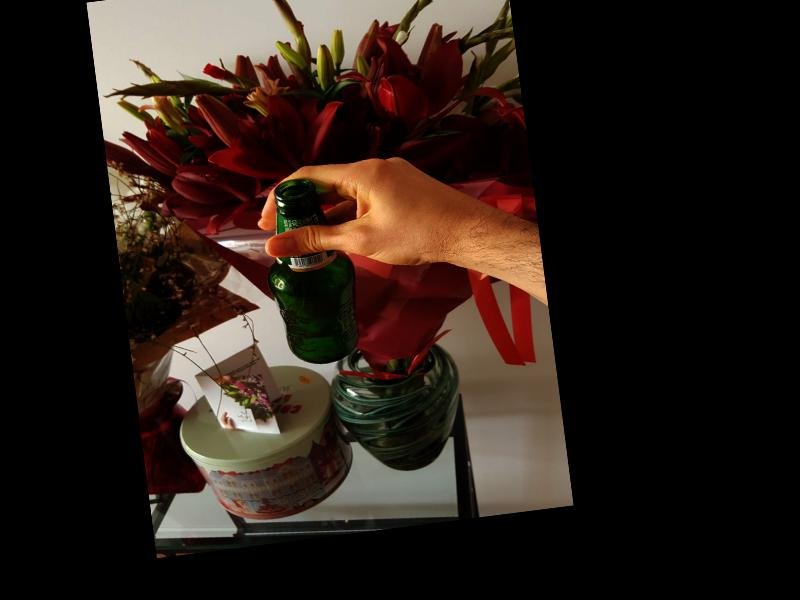Beer: (256, 175, 362, 369)
